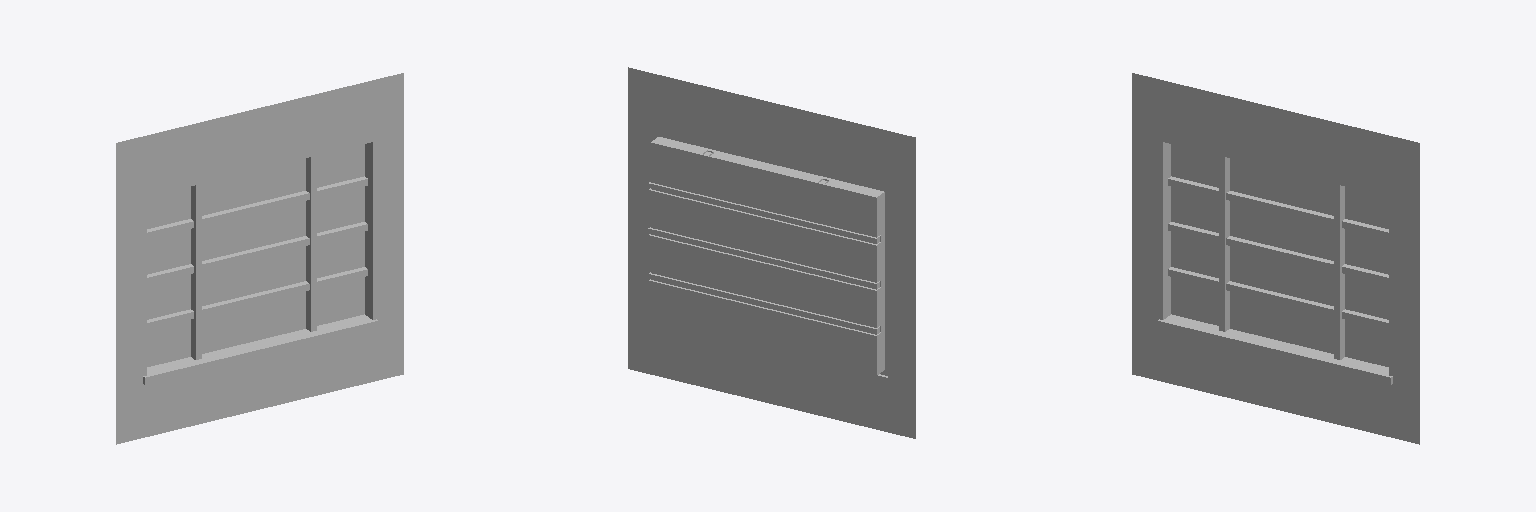
File: window01.obj
3 views of the same model, side by side, from view 1: azimuth 30°, elevation 25°; view 2: azimuth 150°, elevation 25°; view 3: azimuth 330°, elevation 25° (orthographic).
Parts seen in each view (by area): view 1: Window01_Plane; view 2: Window01_Plane; view 3: Window01_Plane.
Boxes of the visible parts, x1,y1,x2,y2 form: Window01_Plane: [116, 73, 403, 444]; Window01_Plane: [628, 67, 915, 438]; Window01_Plane: [1132, 73, 1419, 444].
Bounding box in the file's own units: 1 × 1 × 0.067.